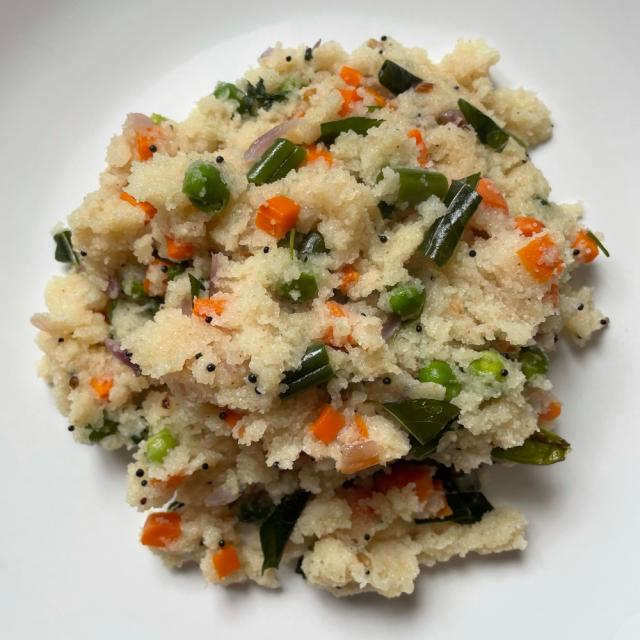upma: (22, 17, 628, 627)
